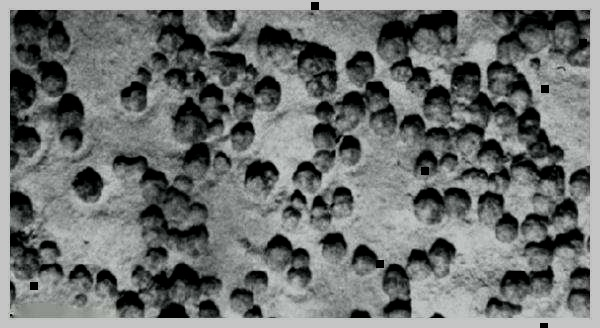halobolite: (409, 5, 458, 58), (299, 39, 341, 95), (255, 23, 299, 69), (346, 48, 391, 86), (485, 59, 521, 103), (19, 14, 55, 57), (141, 234, 173, 278), (70, 168, 108, 204), (112, 146, 145, 187), (253, 74, 282, 119), (116, 77, 152, 113), (36, 55, 71, 92), (168, 101, 199, 142), (150, 20, 187, 54), (165, 192, 198, 230), (191, 261, 223, 300), (189, 148, 224, 183), (497, 167, 530, 204), (495, 31, 527, 69), (499, 269, 534, 303), (547, 228, 588, 257), (421, 88, 454, 124), (453, 124, 486, 160), (411, 185, 439, 227), (223, 49, 253, 88), (379, 21, 409, 60), (58, 108, 87, 148), (453, 60, 482, 100), (327, 185, 360, 220), (518, 209, 551, 244), (8, 122, 44, 154), (136, 199, 166, 237), (196, 106, 229, 140), (316, 232, 349, 266), (555, 10, 587, 45), (230, 120, 262, 155), (546, 198, 582, 229), (538, 162, 567, 200), (348, 241, 379, 276), (453, 154, 489, 184), (8, 232, 42, 263), (52, 18, 82, 53), (394, 111, 429, 141), (7, 187, 34, 225), (430, 171, 462, 203), (525, 269, 558, 300), (4, 40, 38, 70), (91, 269, 121, 303), (404, 246, 434, 280), (493, 210, 522, 245), (43, 131, 75, 162), (241, 266, 272, 298), (293, 160, 323, 193), (313, 121, 341, 156), (477, 193, 508, 224), (433, 205, 463, 237), (62, 153, 90, 187), (142, 170, 169, 205), (5, 77, 35, 108), (529, 8, 554, 45), (343, 92, 371, 125), (484, 296, 524, 319), (419, 12, 457, 36), (113, 290, 146, 317), (247, 160, 271, 197), (567, 163, 591, 200), (431, 240, 456, 275), (226, 285, 257, 313), (62, 265, 94, 292), (279, 198, 303, 234), (517, 124, 544, 156), (567, 261, 593, 294), (370, 108, 398, 138), (36, 237, 66, 265), (269, 231, 296, 262), (32, 261, 65, 286), (286, 266, 319, 291), (340, 130, 364, 164), (298, 205, 326, 233), (309, 96, 338, 123), (567, 290, 592, 321), (209, 80, 235, 109), (170, 246, 193, 278), (378, 272, 404, 300), (232, 94, 260, 120), (344, 294, 374, 318), (159, 298, 189, 322), (186, 298, 220, 319), (285, 249, 311, 276), (7, 264, 32, 291), (565, 44, 592, 69), (391, 59, 416, 85), (172, 67, 193, 96), (412, 68, 433, 94), (188, 61, 212, 82), (379, 298, 403, 319), (523, 243, 545, 265), (293, 190, 311, 212)
